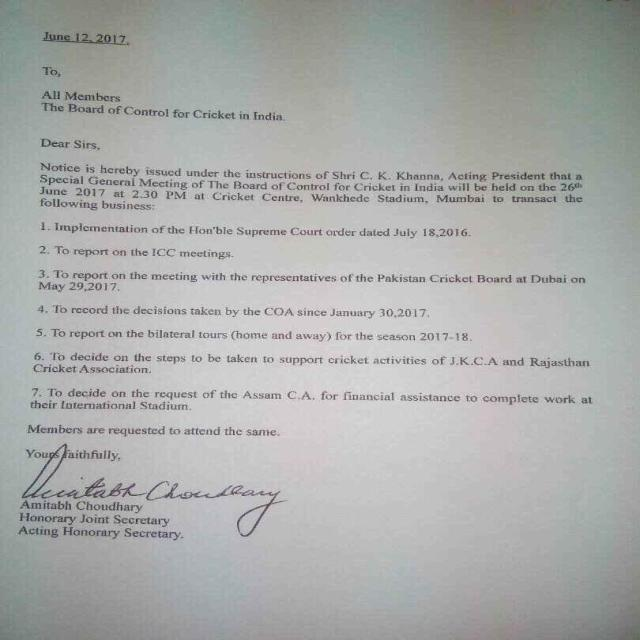signature: (20, 443, 278, 539)
